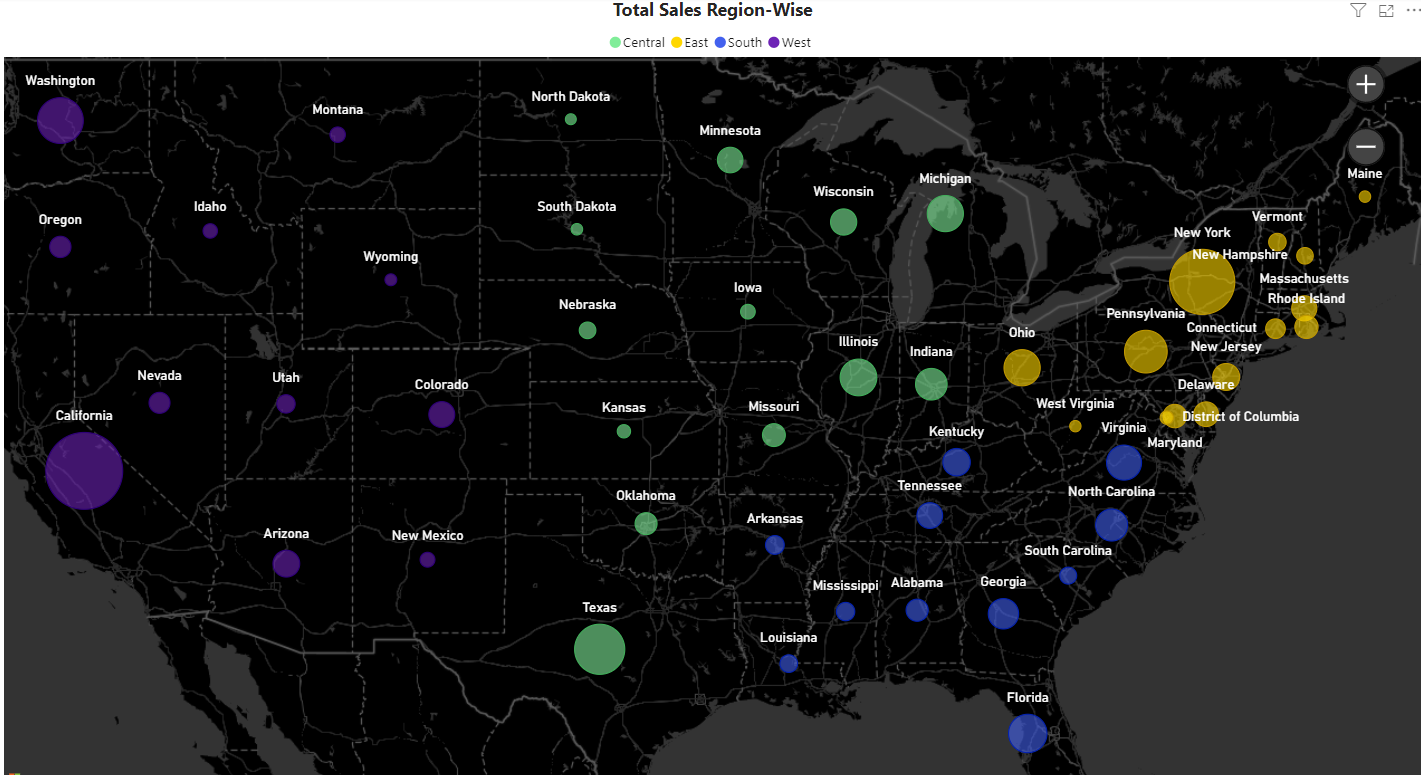

This screenshot's page, from the dashboard's own definition file:
{"tool":"powerbi","page":{"name":"Map","canvas":[1280,720],"ordinal":2},"visuals":[{"type":"map","title":"Total Sales Region-Wise","fields":{"Size":["superstore superstore_sales.Total Sales"],"Series":["superstore superstore_sales.Region"],"Category":["superstore superstore_sales.State"]},"box":[0,0,1280,720],"z":0}]}

Visuals, with their boxes on the page's 1280x720 design canvas (x1, y1, x2, y2). These are canvas units, not pixel positions in the 1421x775 screenshot, which may show the page scaled, cropped or inside an application window:
"Total Sales Region-Wise" map: left=0, top=0, right=1280, bottom=720
